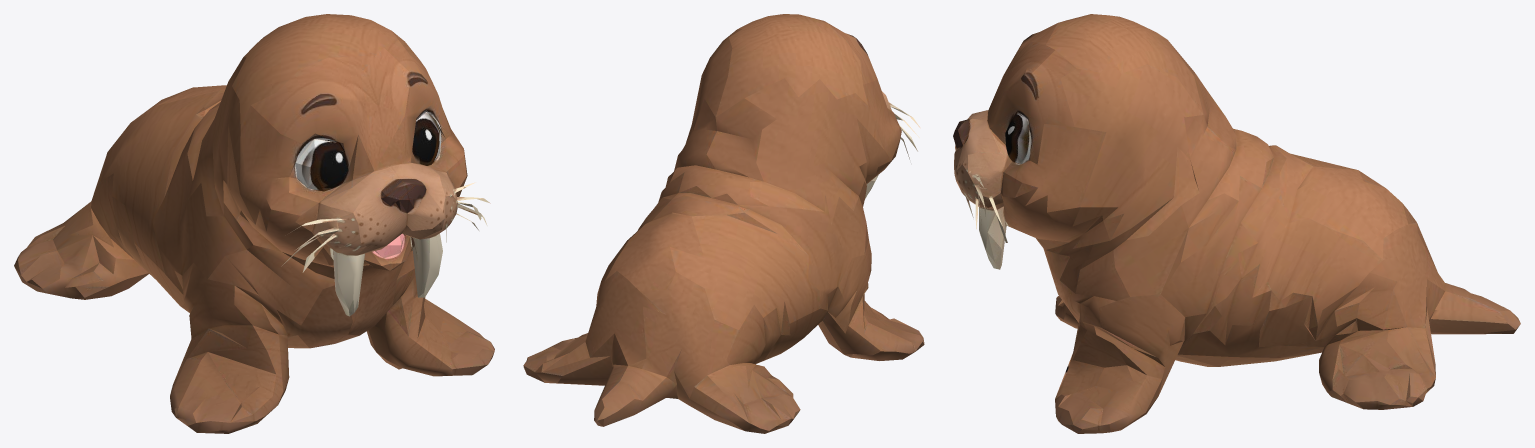
File: toy-walrus.glb
3 views of the same model, side by side, from view 1: azimuth 30°, elevation 25°; view 2: azimuth 150°, elevation 25°; view 3: azimuth 270°, elevation 25° (orthographic). The views are drawn at different scales.
Parts seen in each view (by area): view 1: Prize_Batch0; view 2: Prize_Batch0; view 3: Prize_Batch0.
Part boxes in pixels (box(x1,y1,x2,y2)): Prize_Batch0: box(14, 14, 494, 433); Prize_Batch0: box(523, 14, 924, 433); Prize_Batch0: box(953, 14, 1520, 433).
Bounding box in the file's own units: 0.0192 × 0.0213 × 0.032.
1 material, 1 textured.
